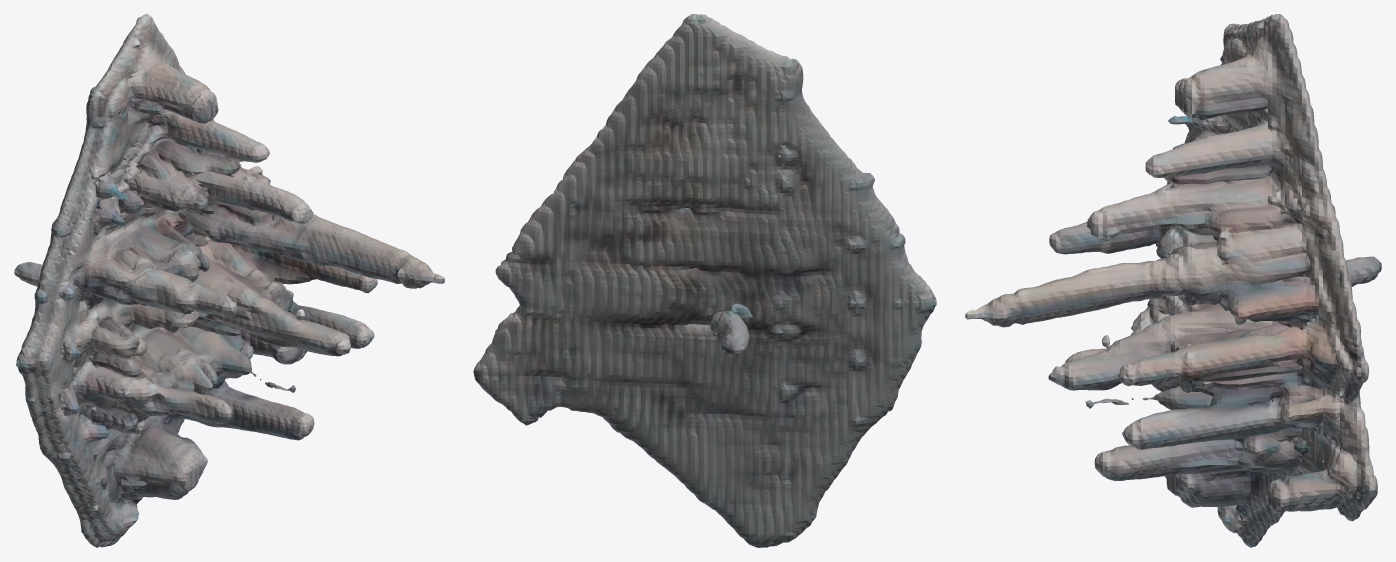
3 views of the same model, side by side, from view 1: azimuth 30°, elevation 25°; view 2: azimuth 150°, elevation 25°; view 3: azimuth 270°, elevation 25° (orthographic). The views are drawn at different scales.
Parts seen in each view (by area): view 1: world; view 2: world; view 3: world.
Part boxes in pixels (bbox=[...]): world: bbox=[14, 14, 444, 547]; world: bbox=[473, 14, 936, 547]; world: bbox=[965, 14, 1381, 547].
Size of the model in its own units: 0.711 by 0.9865 by 0.6713.
